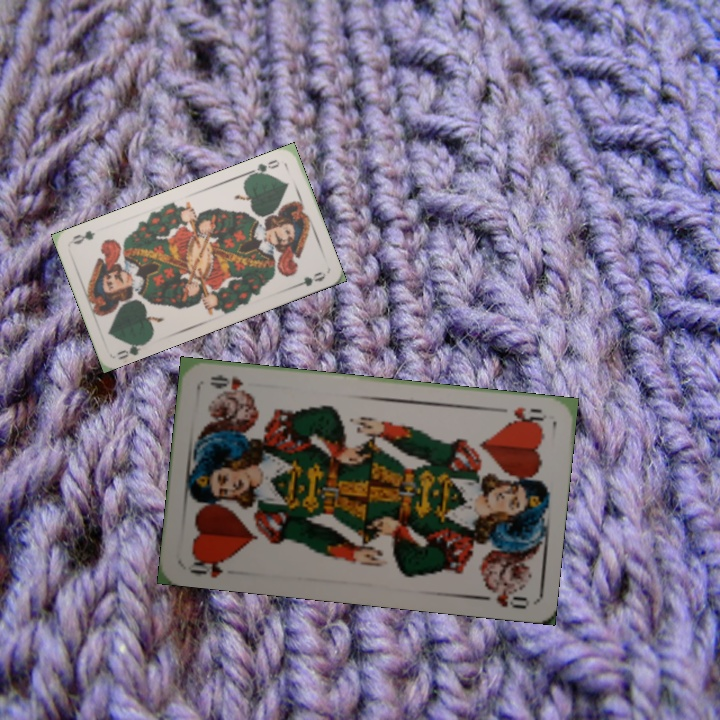GO: (113, 337, 151, 362), (245, 155, 282, 178)
HO: (491, 403, 549, 428), (186, 552, 231, 580)
